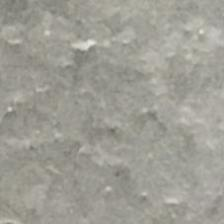Non_Crack: (14, 27, 217, 202)
